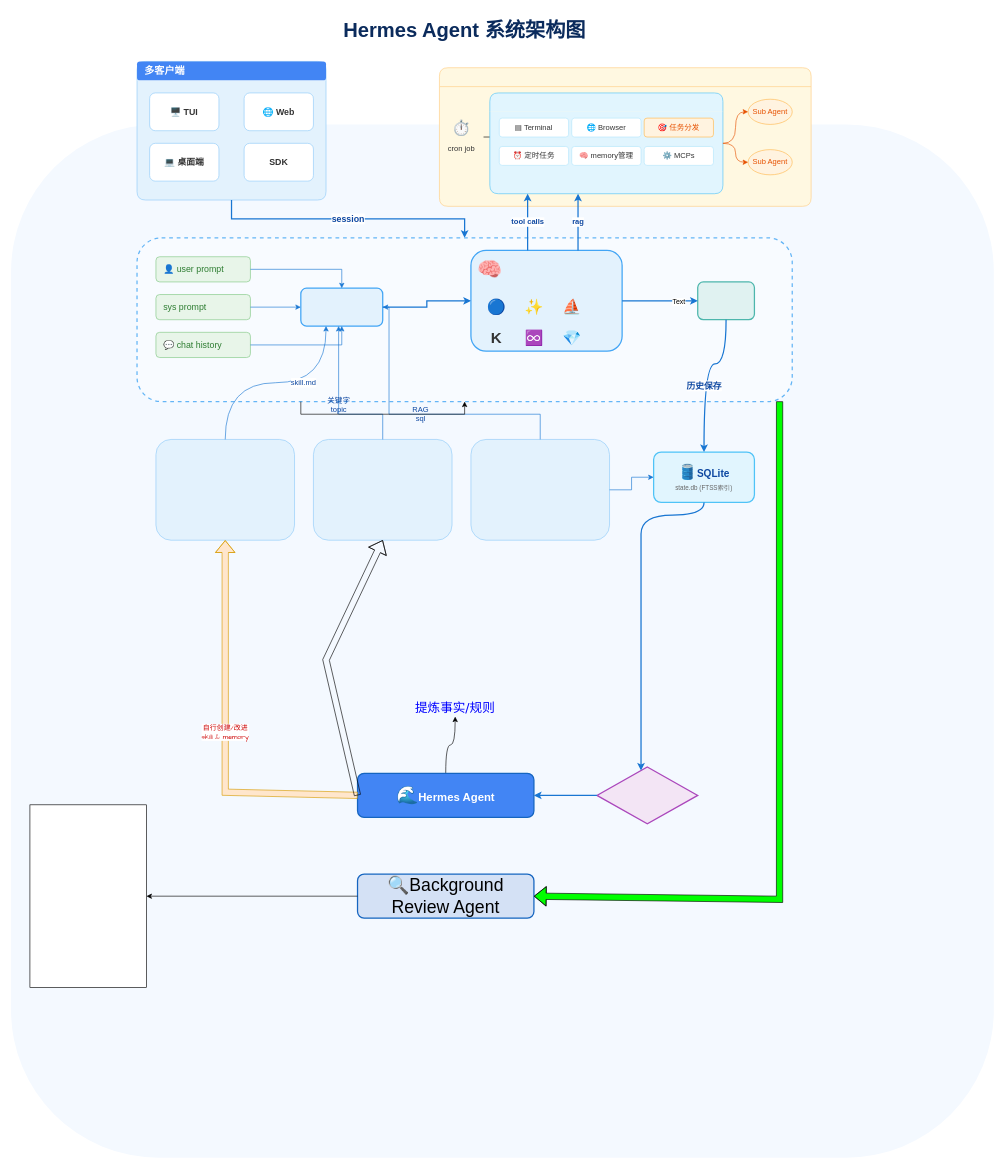
The diagram is 1004 pixels wide and 1168 high, and some of its shapes have lost their labels. Each missing label, with the box of its shape:
Agentic Tools: (489, 92, 723, 194)
LLM: (470, 249, 622, 352)
Loop: (439, 67, 811, 206)
判断本人是否产生了 用户偏好 稳定事实 可复用技巧 对 旧skills 修正: (29, 804, 146, 988)
知识整合门控: (596, 766, 698, 824)
📄 语义记忆 • 抽象的知识 • 用户偏好 ~/.hermes/memories/MEMORY.md: (313, 439, 452, 540)
📖 程序记忆 • 技能和习惯 • 用户偏好 ~/.hermes/skills/*/SKILL.md: (155, 439, 295, 540)
🕒 情景记忆 • 具体的事件和经历 • 时间序列关系: (470, 439, 610, 540)
🗄️ 回复: (697, 281, 755, 320)
🪣working memory: (300, 287, 383, 326)
